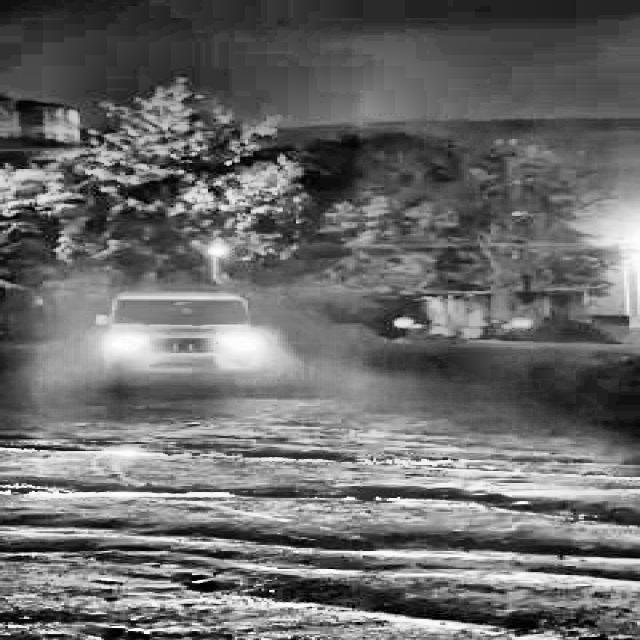light_vehicle: (101, 294, 268, 377)
